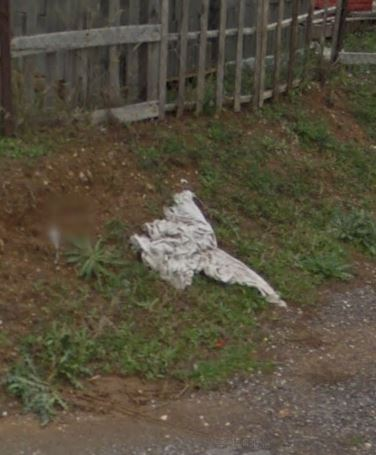trash: (115, 179, 306, 312)
